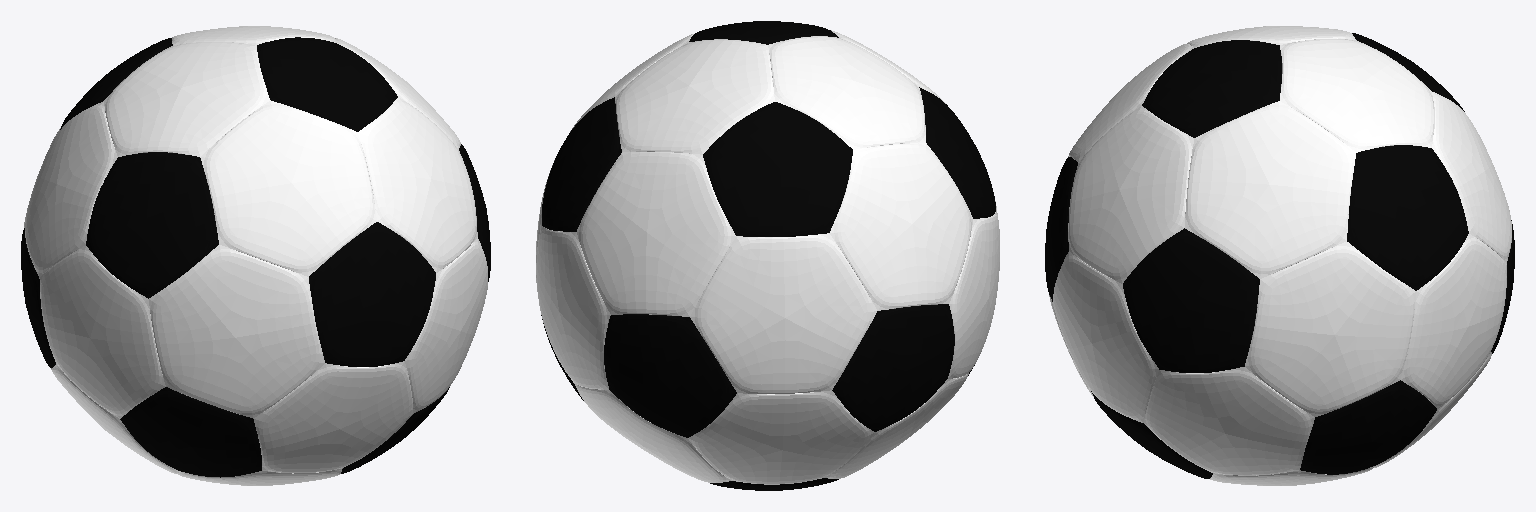
Rendered from SoccerBall.obj.
The picture shows the model from 3 angles: view 1: azimuth 30°, elevation 25°; view 2: azimuth 150°, elevation 25°; view 3: azimuth 270°, elevation 25°; orthographic projection.
Parts seen in each view (by area): view 1: pSolid1; view 2: pSolid1; view 3: pSolid1.
Boxes of the visible parts, x1,y1,x2,y2 form: pSolid1: [21, 26, 490, 485]; pSolid1: [536, 21, 999, 490]; pSolid1: [1045, 26, 1514, 485].
Size of the model in its own units: 1.85 by 1.86 by 1.87.